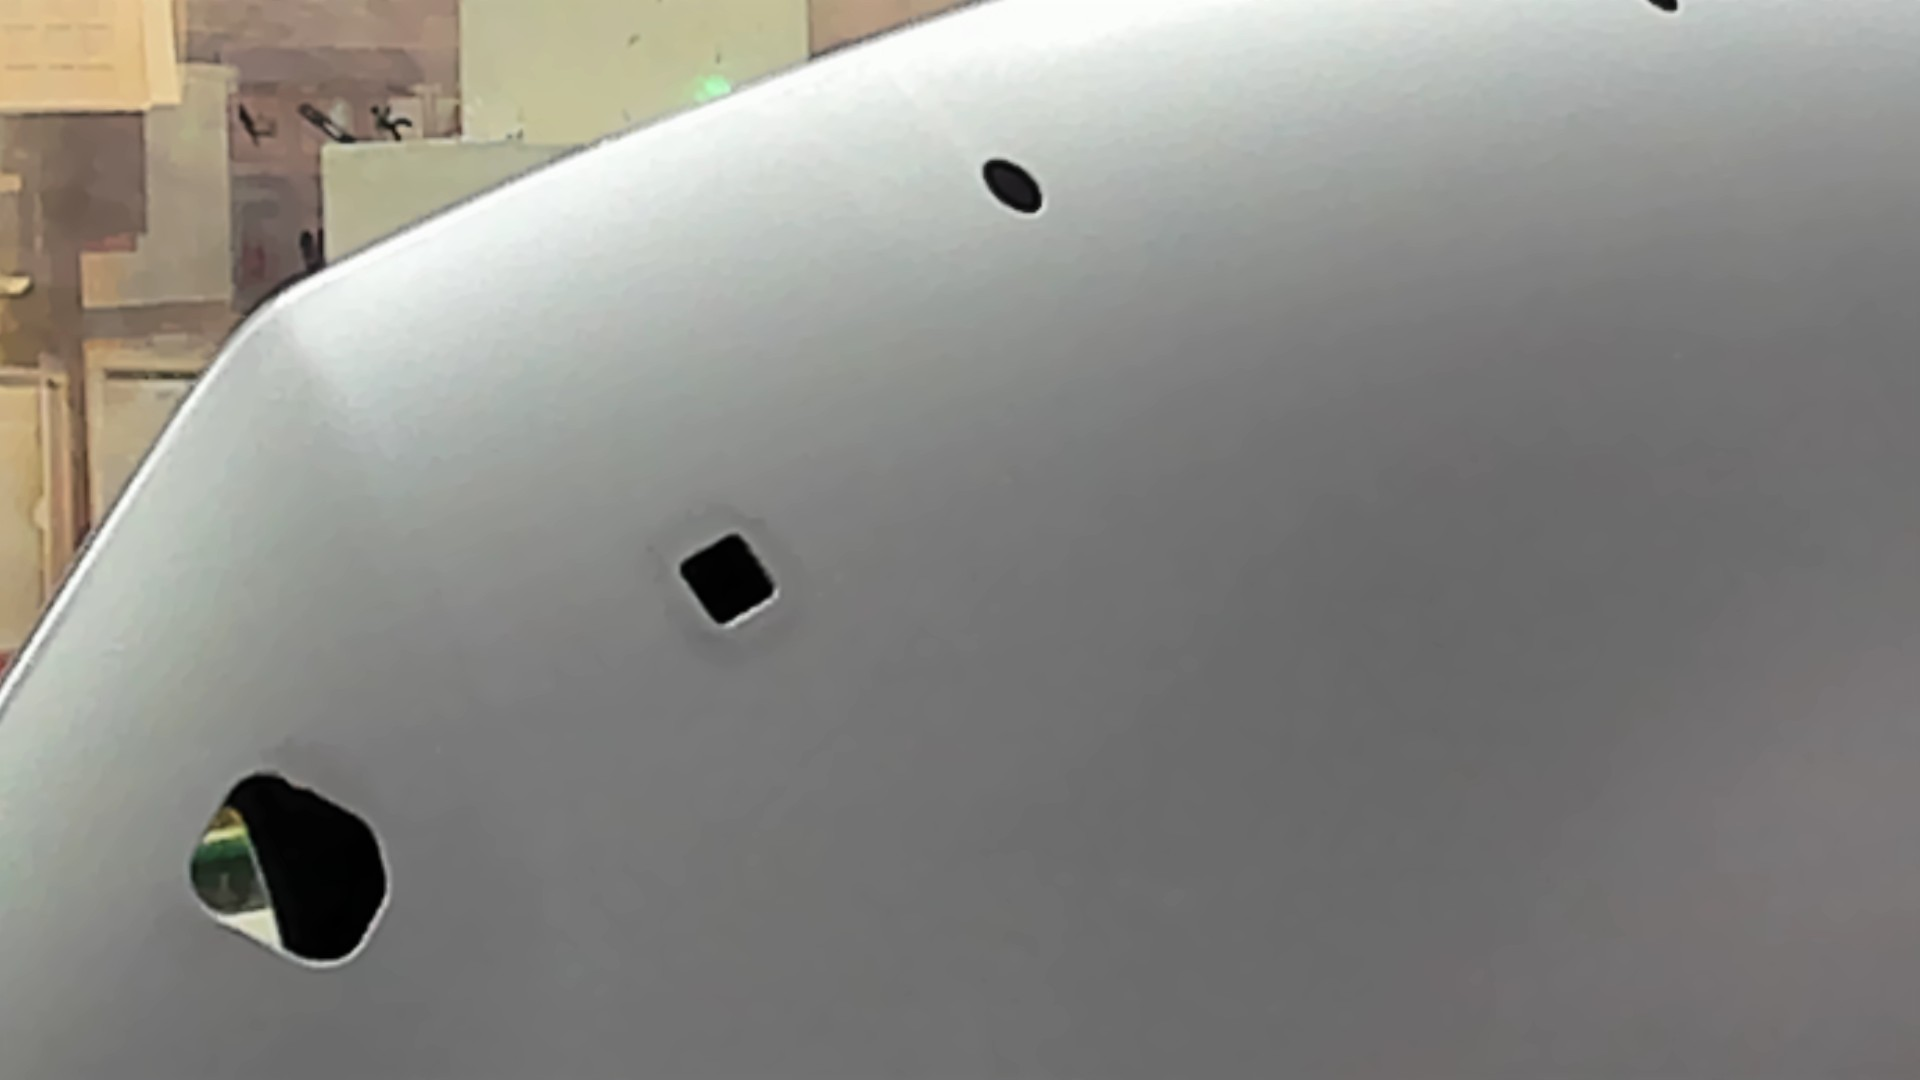chico: (957, 145, 1077, 237)
grande: (166, 758, 414, 978)
mediano: (641, 512, 822, 659)
